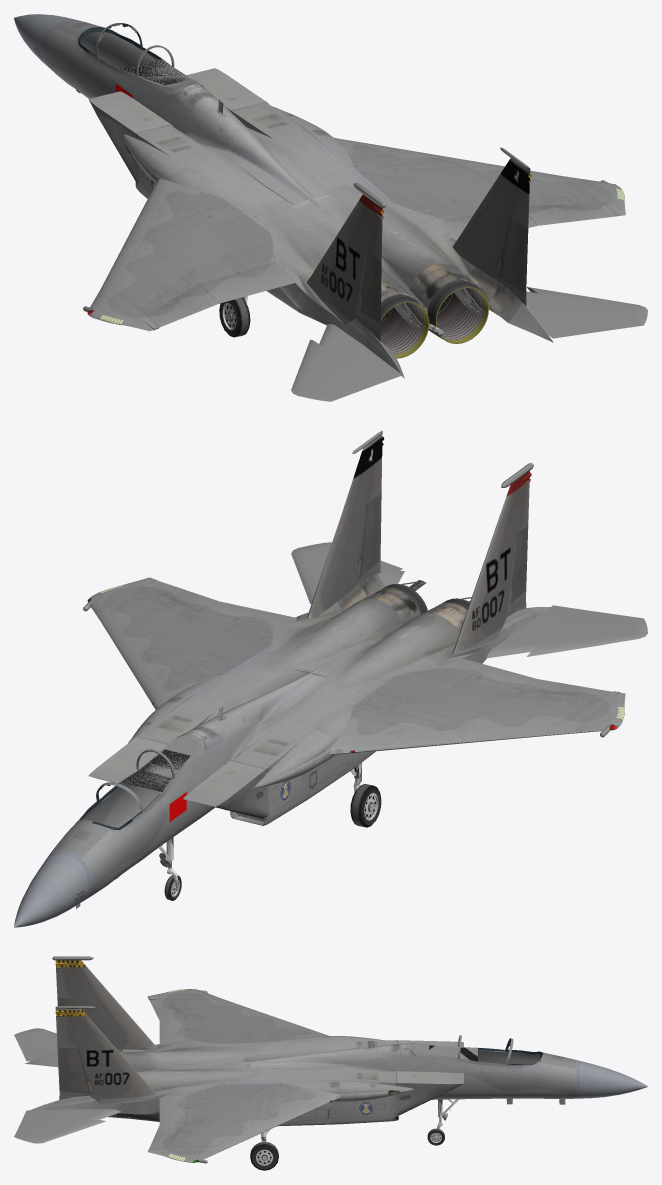
File: f15-mobile.glb
The picture shows the model from 3 angles, top to bottom: view 1: azimuth 30°, elevation 25°; view 2: azimuth 150°, elevation 25°; view 3: azimuth 270°, elevation 25°; orthographic projection. The views are drawn at different scales.
Visible parts, largest first — view 1: Fuselage, WingL, WingR, Fins, StabilatorL, StabilatorR, Airbrake, EngineCovers, IntakeRampL0, FlapL, Canopy, AfterburnerR (+10 smaller); view 2: Fuselage, WingL, WingR, Fins, StabilatorL, Radome, IntakeRampL0, Canopy, Airbrake, EngineCovers, IntakeRampR0, StabilatorR (+8 smaller); view 3: Fuselage, Fins, WingR, WingL, StabilatorR, IntakeRampR0, Radome, Airbrake, Canopy, rudder.001, StabilatorL, FlapR (+5 smaller).
Boxes of the visible parts, box(x1,y1,x2,y2) form: Fuselage: box(44, 19, 553, 378); WingL: box(87, 179, 275, 331); WingR: box(334, 138, 625, 220); Fins: box(307, 158, 530, 341); StabilatorL: box(291, 324, 402, 401); StabilatorR: box(526, 287, 647, 338); Airbrake: box(224, 123, 328, 204); EngineCovers: box(298, 263, 522, 349); IntakeRampL0: box(88, 91, 173, 182); FlapL: box(199, 262, 294, 303); Canopy: box(96, 23, 204, 94); AfterburnerR: box(436, 288, 484, 340); Fuselage: box(49, 571, 550, 900); WingL: box(330, 666, 625, 755); WingR: box(87, 577, 274, 709); Fins: box(307, 433, 529, 654); StabilatorL: box(486, 605, 647, 658); Radome: box(14, 850, 91, 927); IntakeRampL0: box(183, 759, 268, 818); Canopy: box(98, 733, 204, 813); Airbrake: box(225, 669, 329, 724); EngineCovers: box(337, 574, 467, 633); IntakeRampR0: box(88, 736, 168, 783); StabilatorR: box(291, 542, 402, 604); Fuselage: box(25, 1036, 575, 1126); Fins: box(55, 960, 157, 1104); WingR: box(147, 1083, 340, 1162); WingL: box(147, 989, 328, 1043); StabilatorR: box(14, 1109, 121, 1143); IntakeRampR0: box(394, 1071, 463, 1115); Radome: box(576, 1060, 647, 1098); Airbrake: box(250, 1050, 354, 1068); Canopy: box(406, 1035, 512, 1066); rudder.001: box(57, 1046, 88, 1091); StabilatorL: box(14, 1028, 57, 1061); FlapR: box(159, 1094, 185, 1124).
Size of what is drawn, in the model's own units: 12.6 by 5.68 by 19.51.
23 materials, 21 textured.
